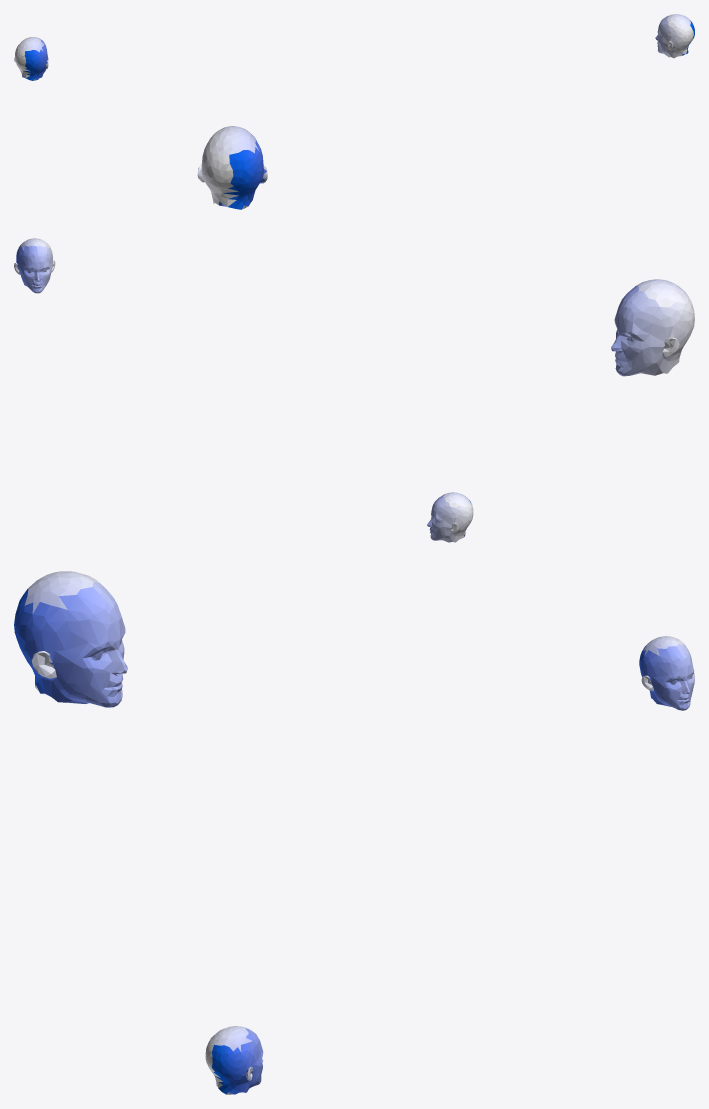
Rendered from cabezasHumanoides.glb.
The picture shows the model from 3 angles, top to bottom: view 1: azimuth 30°, elevation 25°; view 2: azimuth 150°, elevation 25°; view 3: azimuth 270°, elevation 25°; orthographic projection. The views are drawn at different scales.
Visible parts, largest first — view 1: cabezas_humanoides:Mesh; view 2: cabezas_humanoides:Mesh; view 3: cabezas_humanoides:Mesh.
Boxes of the visible parts, bbox=[...] form: cabezas_humanoides:Mesh: bbox=[14, 14, 694, 209]; cabezas_humanoides:Mesh: bbox=[14, 238, 694, 542]; cabezas_humanoides:Mesh: bbox=[14, 571, 694, 1094].
Size of the model in its own units: 5.42 by 0.8189 by 3.75.
1 material, 1 textured.
